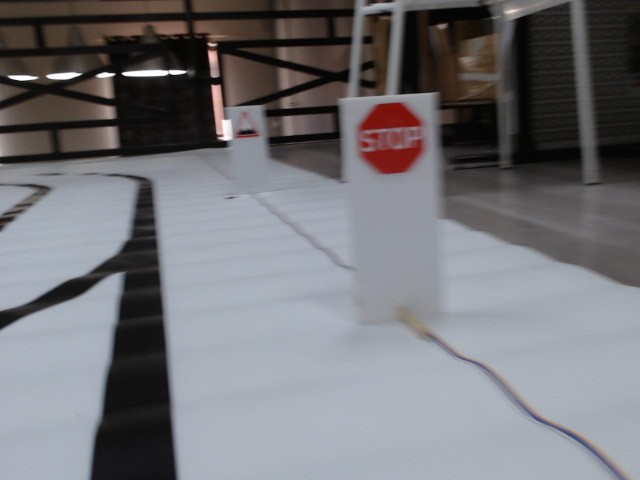Stop: (356, 100, 426, 176)
